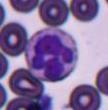N: (25, 28, 79, 82)
